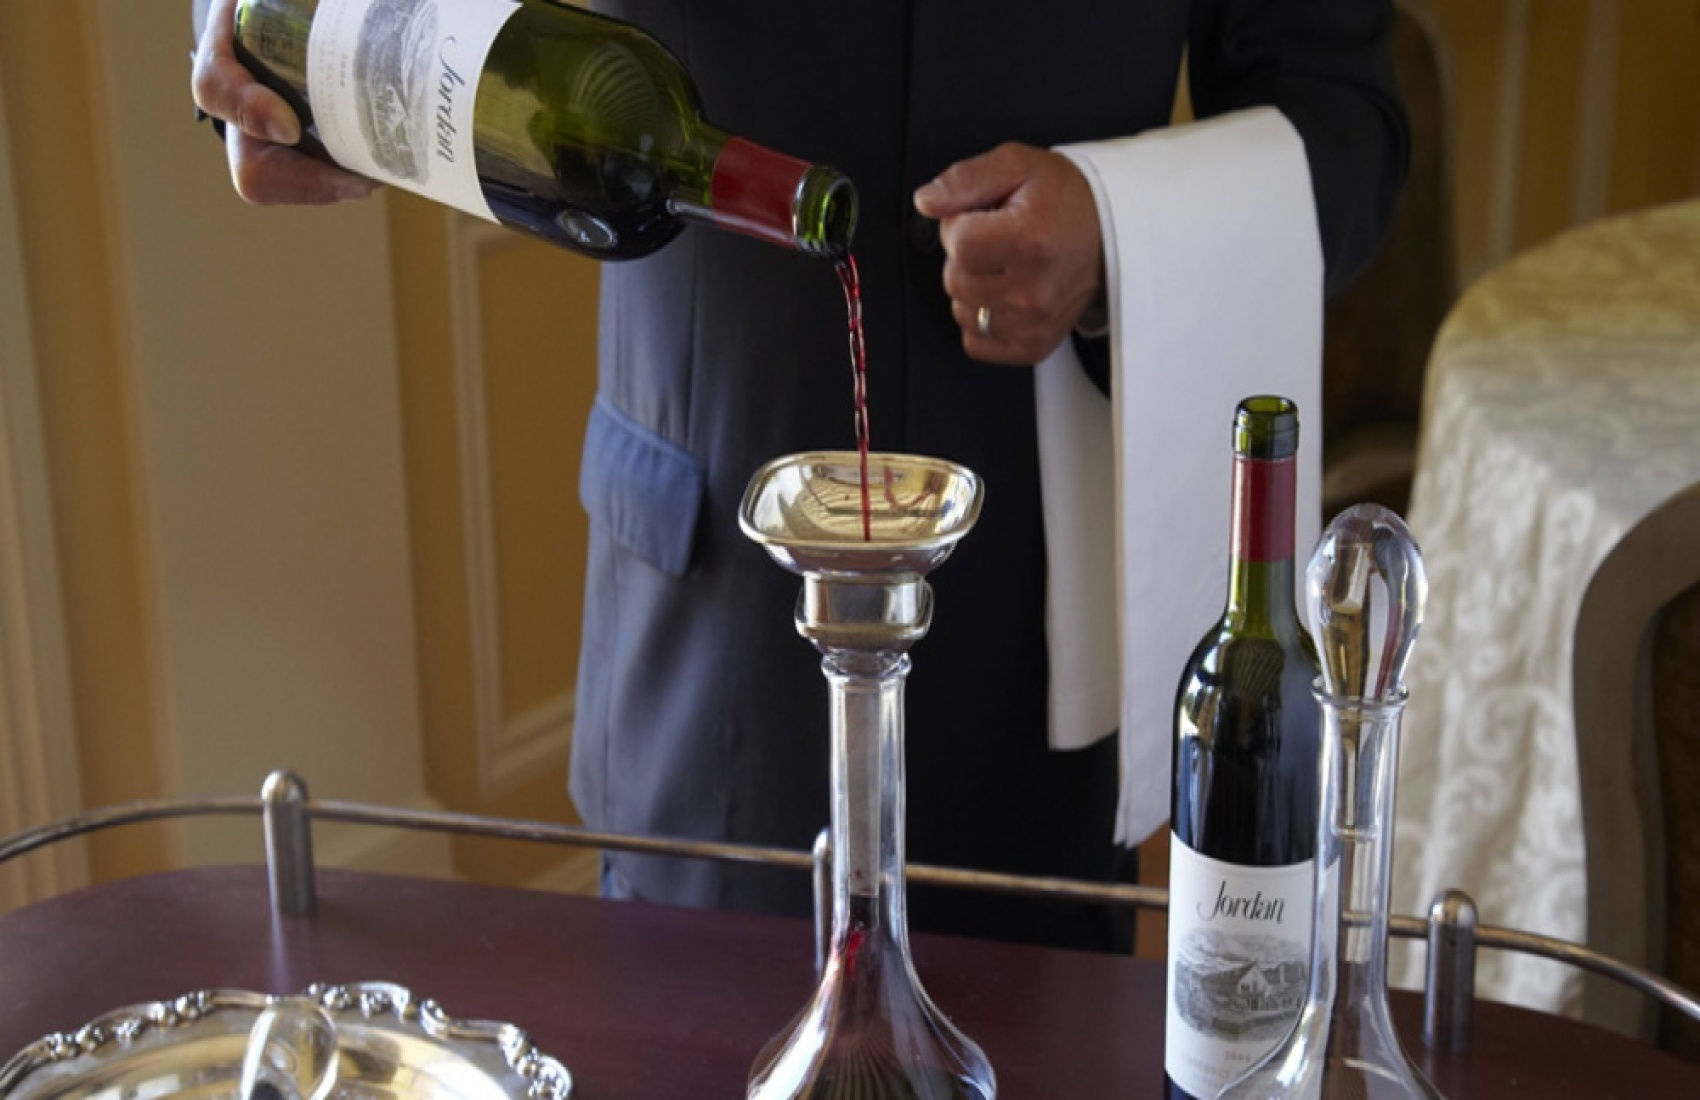wine: (187, 1, 856, 247), (1168, 405, 1330, 1096)
